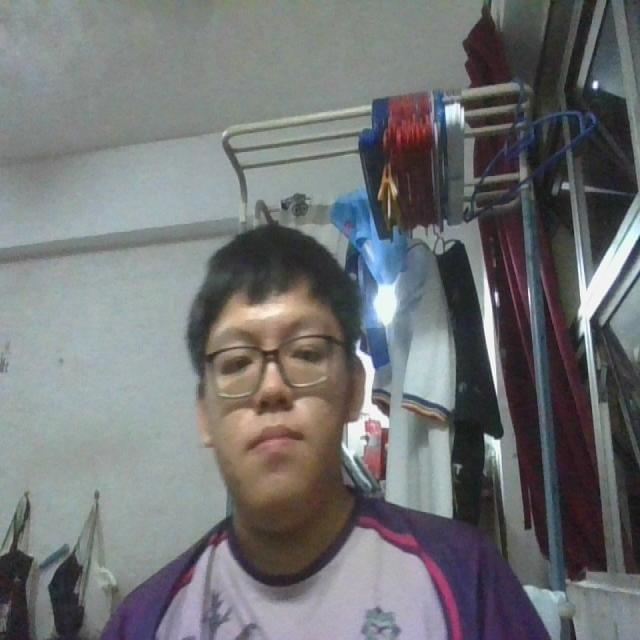person_without_labcoat: (102, 225, 548, 639)
